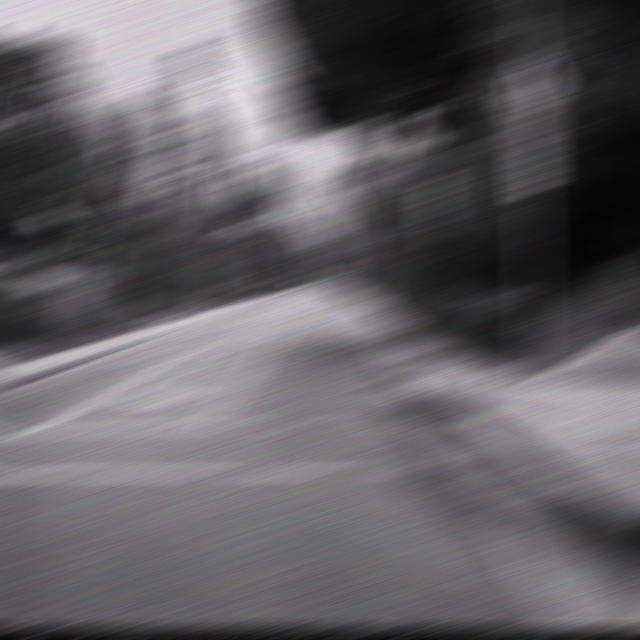pedestrianCrossing: (501, 49, 563, 136)
